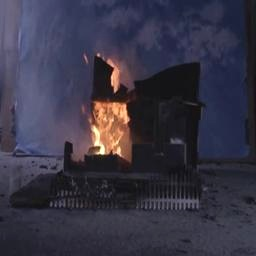fire: (78, 56, 144, 155)
